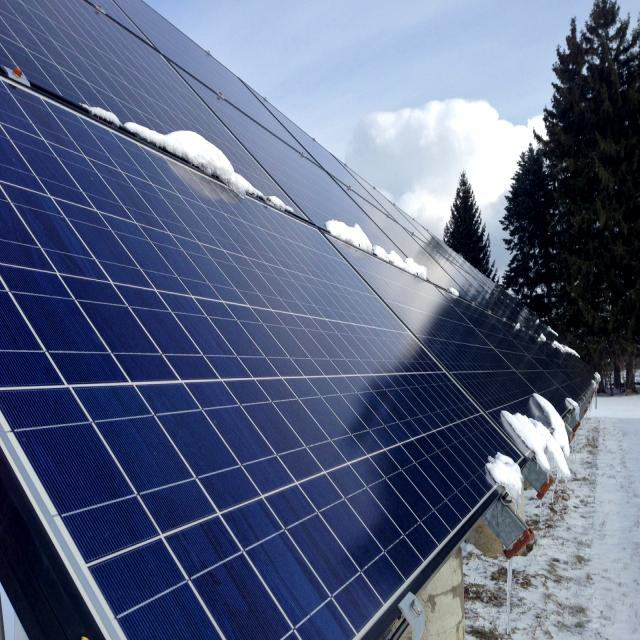panel: (174, 100, 304, 220), (330, 200, 448, 296), (62, 59, 170, 153), (487, 382, 562, 514), (511, 314, 597, 362), (566, 374, 586, 436)
